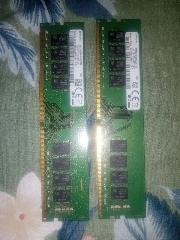electronic: (96, 15, 154, 227), (39, 21, 89, 221)
